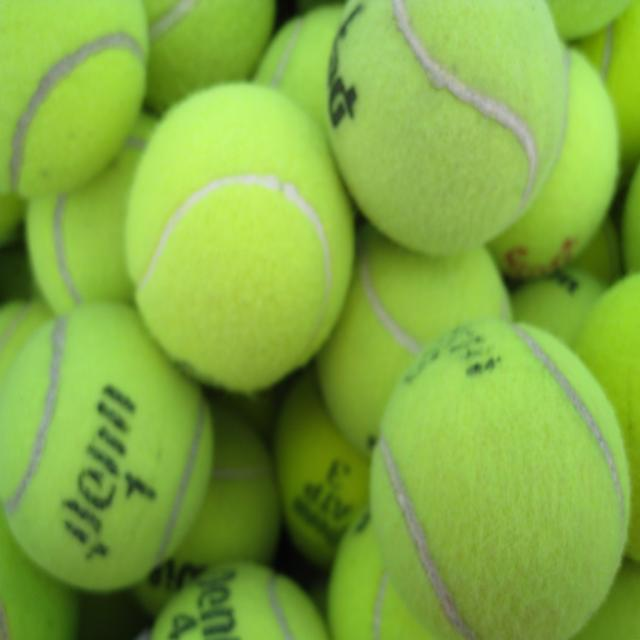Tennis ball: (0, 0, 639, 639), (374, 317, 632, 640)
